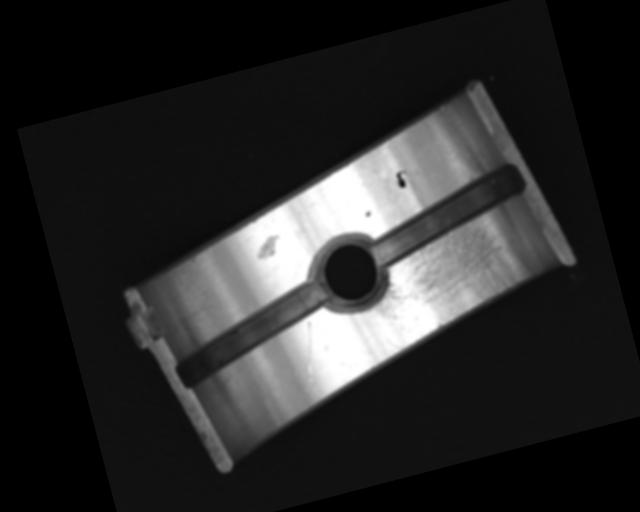blot: (393, 168, 412, 190)
bruise: (252, 233, 284, 263), (364, 209, 372, 217)
gap: (165, 276, 339, 388), (358, 160, 535, 266)
hole: (302, 226, 395, 319)
nick: (295, 320, 325, 382)
scratch: (356, 199, 543, 355)
